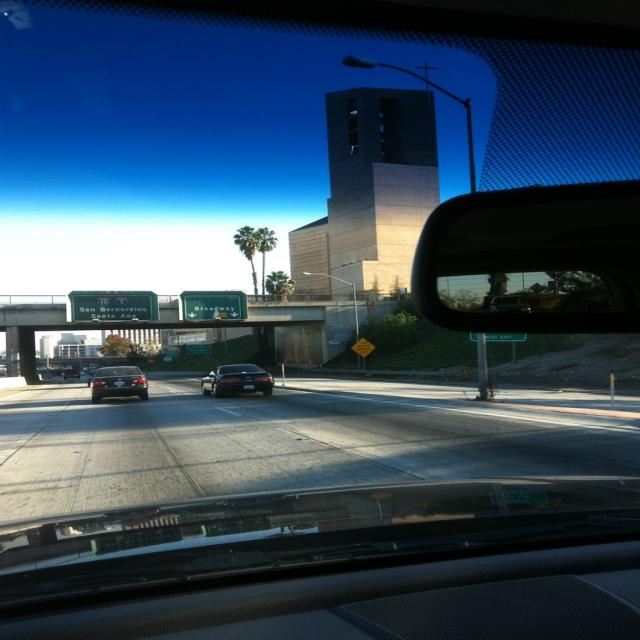car: (199, 361, 281, 399), (88, 363, 150, 400)
